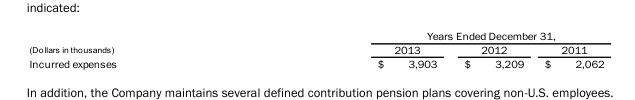table: (28, 28, 603, 68)
table column: (28, 28, 246, 68), (246, 28, 450, 68), (450, 28, 533, 68), (533, 28, 603, 68)
table column header: (28, 28, 603, 56)
table row: (28, 28, 603, 42), (28, 42, 603, 56), (28, 56, 603, 68)
table spanning cell: (28, 28, 246, 56), (246, 28, 603, 42)
